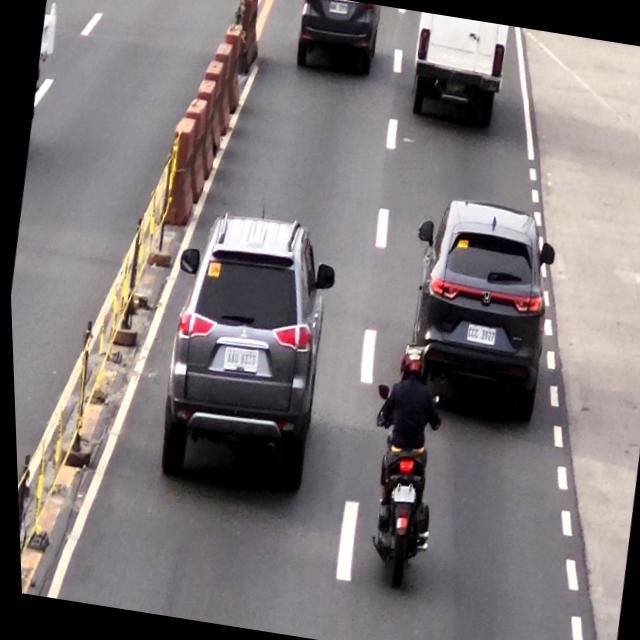Car: (149, 213, 338, 490), (398, 197, 564, 420), (288, 0, 387, 80)
License-Plate: (219, 344, 257, 376), (463, 321, 498, 348), (327, 0, 350, 16)
Motorcycle: (347, 342, 453, 592)
